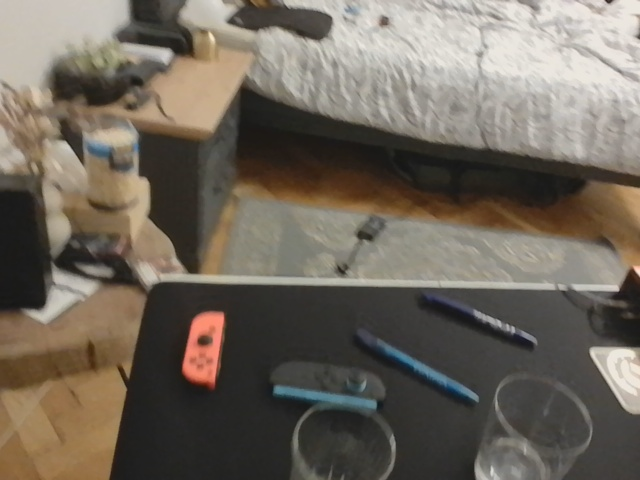glass: (484, 376, 593, 475), (284, 407, 397, 480)
joycon: (265, 361, 388, 407), (183, 309, 222, 388)
pen: (352, 326, 479, 408), (418, 287, 539, 350)
